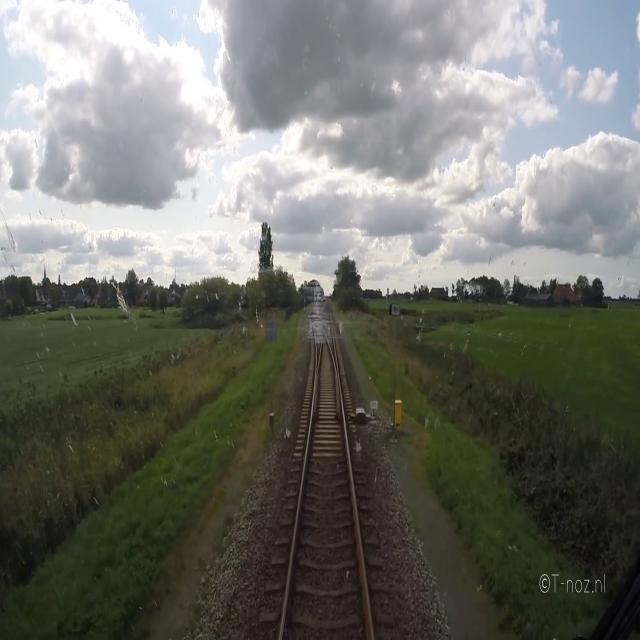rail-track: (283, 336, 369, 639), (324, 306, 333, 352), (314, 305, 321, 351)
